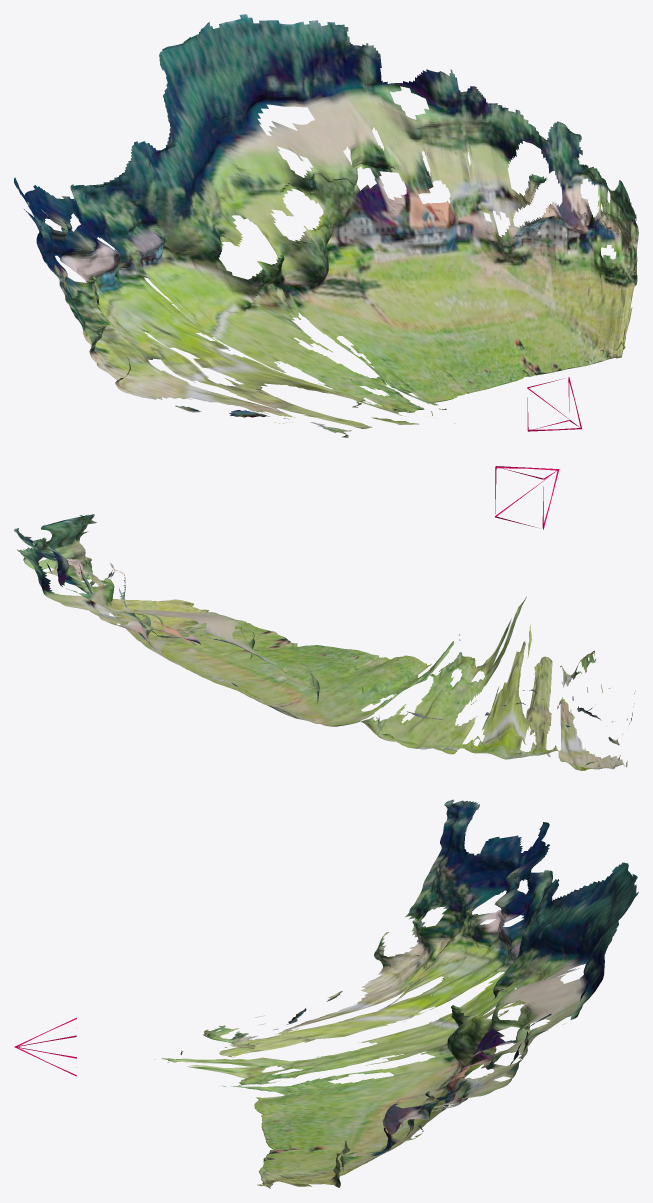
Rendered from glbscene_All_camTrue_meshTrue.glb.
3 renders of one model, top to bottom at view 1: azimuth 30°, elevation 25°; view 2: azimuth 150°, elevation 25°; view 3: azimuth 270°, elevation 25°, orthographic. The views are drawn at different scales.
Parts seen in each view (by area): view 1: world; view 2: world; view 3: world.
Part boxes in pixels (x1,y1,x2,y2): world: (14, 14, 638, 437); world: (14, 466, 635, 770); world: (14, 799, 638, 1188).
Size of the model in its own units: 1.33 by 0.5589 by 1.43.
